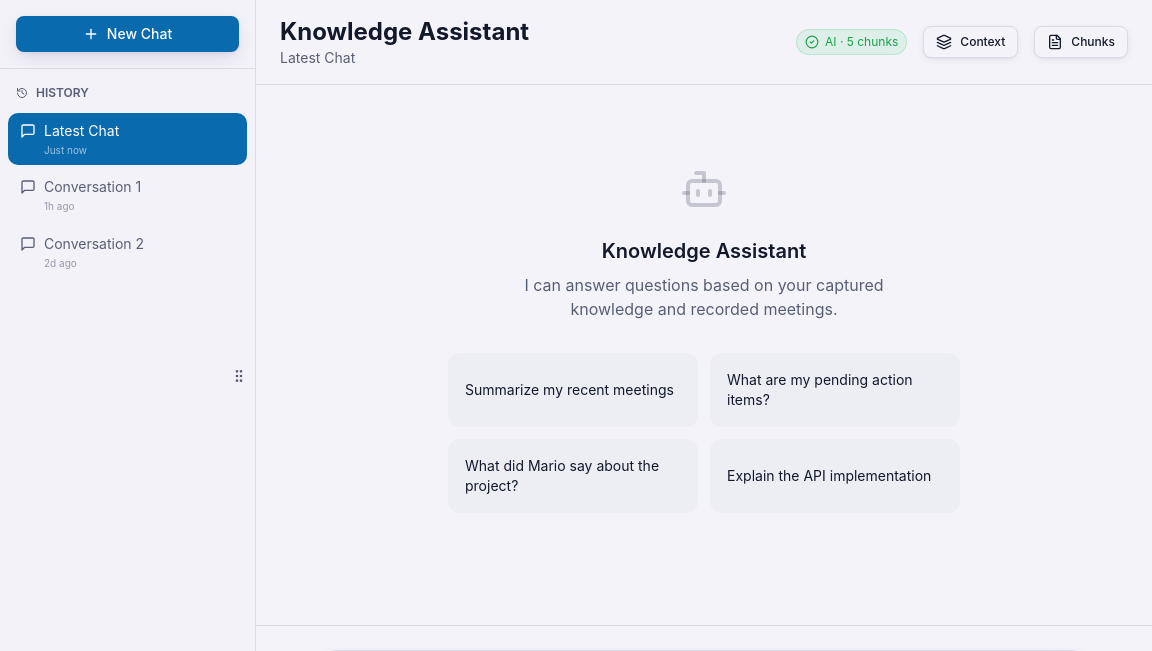
Test: Chat Component › chunk viewer paging › warns when the index changed mid-traversal, and clears the warning on Refresh
Check: the text "HISTORY" is shown, box [16, 85, 89, 100]
What coordinates should you click on to do the following:
click the button "Chunks"
I would click on:
 (1081, 42)
Its box is [1034, 26, 1128, 58].
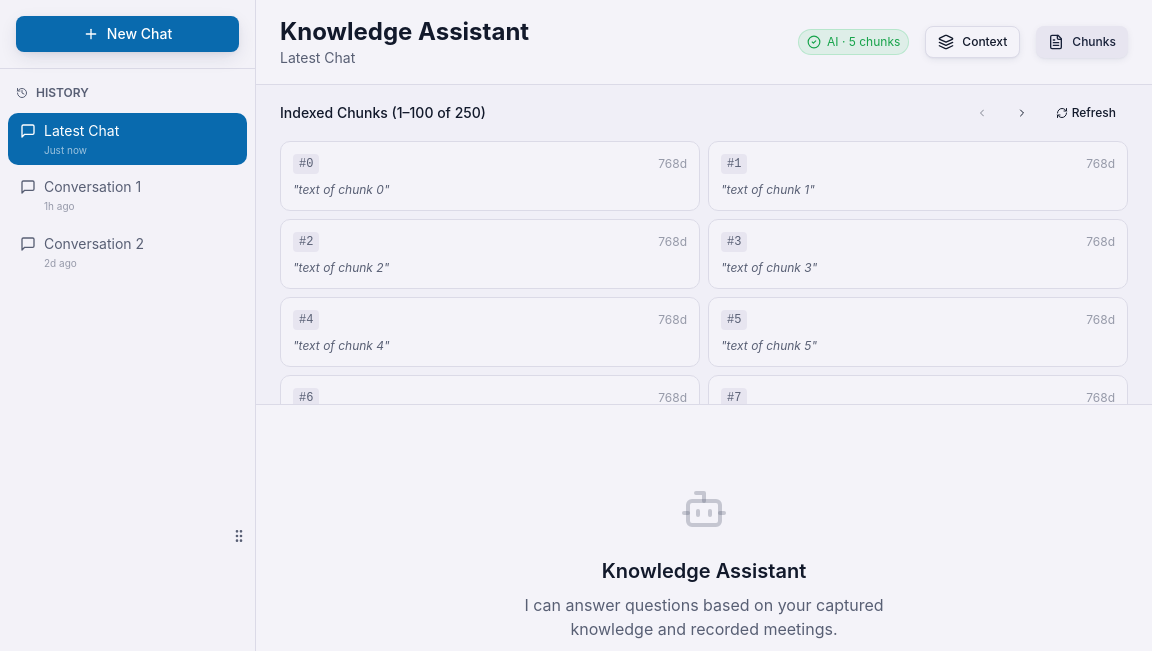
Check: the text "index changed while you were paging" is not shown
Check: the heading "Indexed Chunks (1–100 of 250)" is shown, box [280, 103, 486, 123]
What coordinates should you click on to do the following:
click the button named "Next page of chunks"
I would click on:
 (1022, 113)
Its box is [1004, 97, 1040, 129].
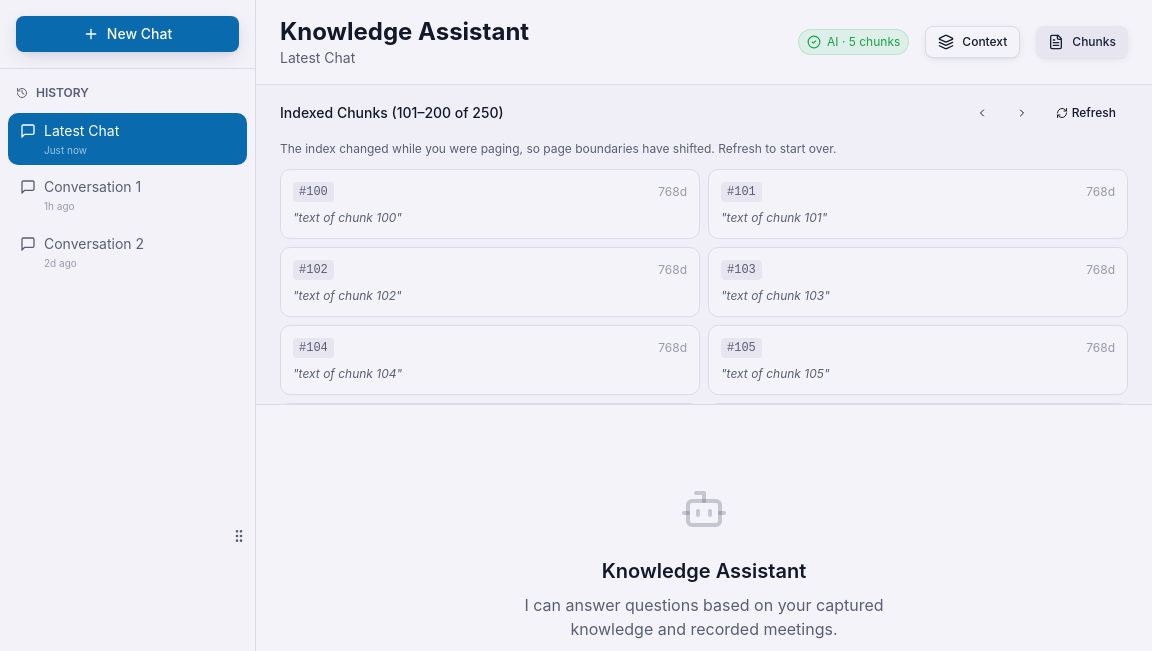
Check: the text "index changed while you were paging" is shown, box [280, 141, 836, 156]
What coordinates should you click on to do the following:
click the button "Refresh"
I would click on:
 (1086, 113)
Its box is [1044, 97, 1128, 129].
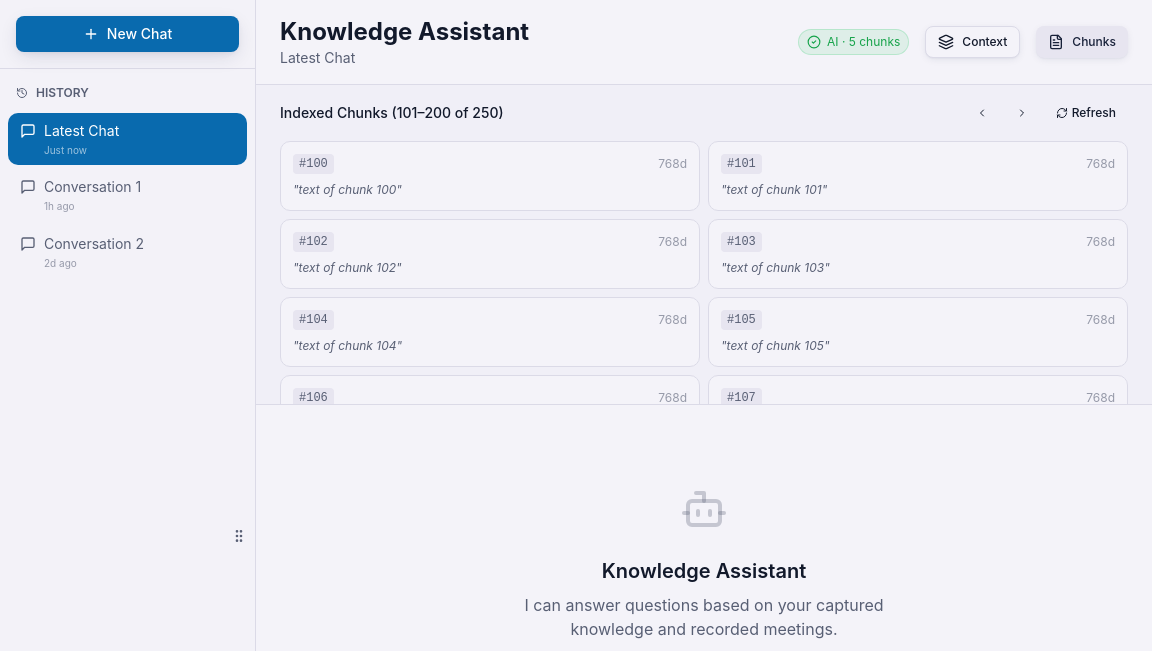
Check: the text "index changed while you were paging" is gone
